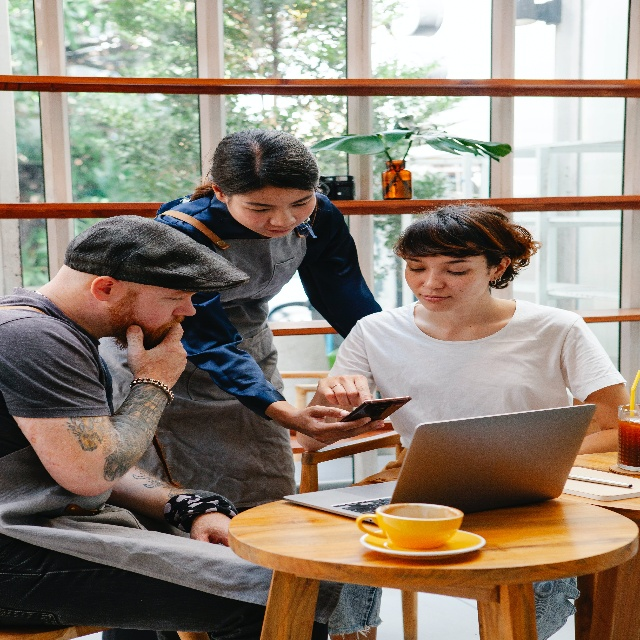Sin_guantes: (126, 321, 188, 390), (295, 404, 385, 446), (317, 373, 373, 412), (189, 512, 231, 547)
